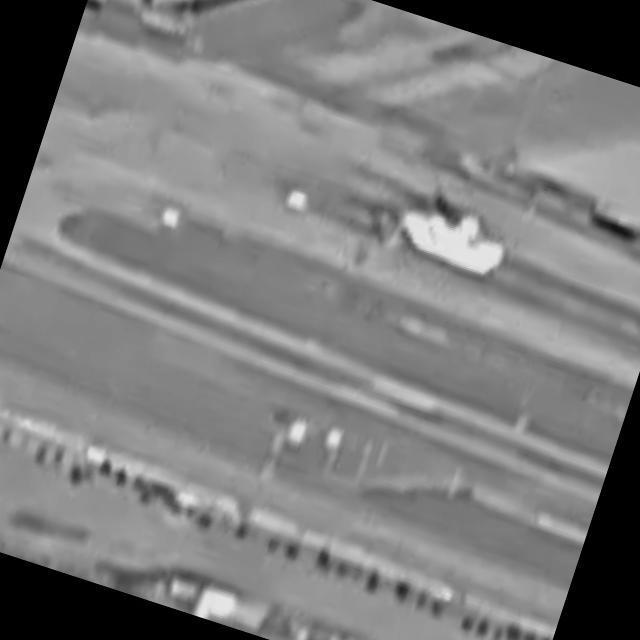aeroplane: (349, 154, 530, 321)
